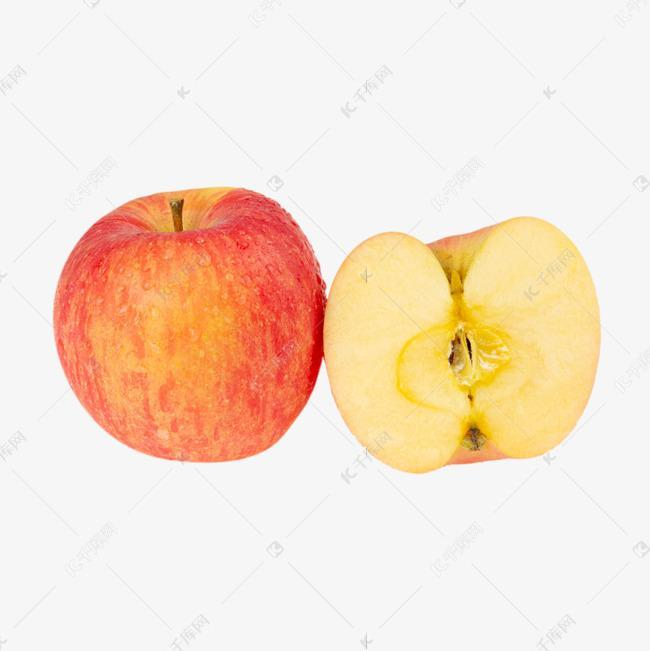apple: (49, 185, 325, 467)
